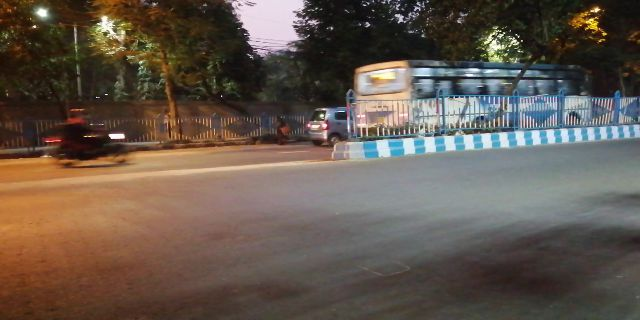Bus: (344, 60, 587, 142)
Motorbike: (36, 109, 132, 170)
